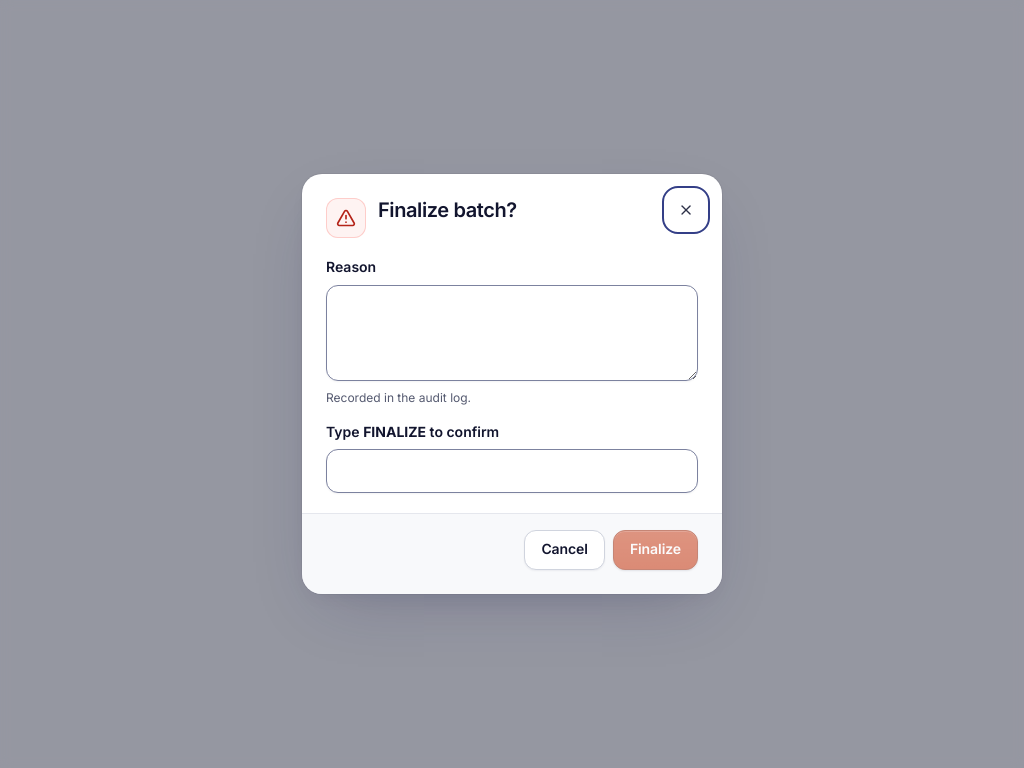
Test: ConfirmDialog › requires the typed phrase and a reason, then passes the reason
Later steps or results of the test are not shown.
Expected: the dialog "Finalize batch?" is shown, [302,174,722,594]
Expected: the button "Finalize" is disabled, [613,530,698,570]
Type "FINAL" into the field labelled "Type FINALIZE to confirm".
click(512, 471); type("FINAL")  # box [326,449,698,493]
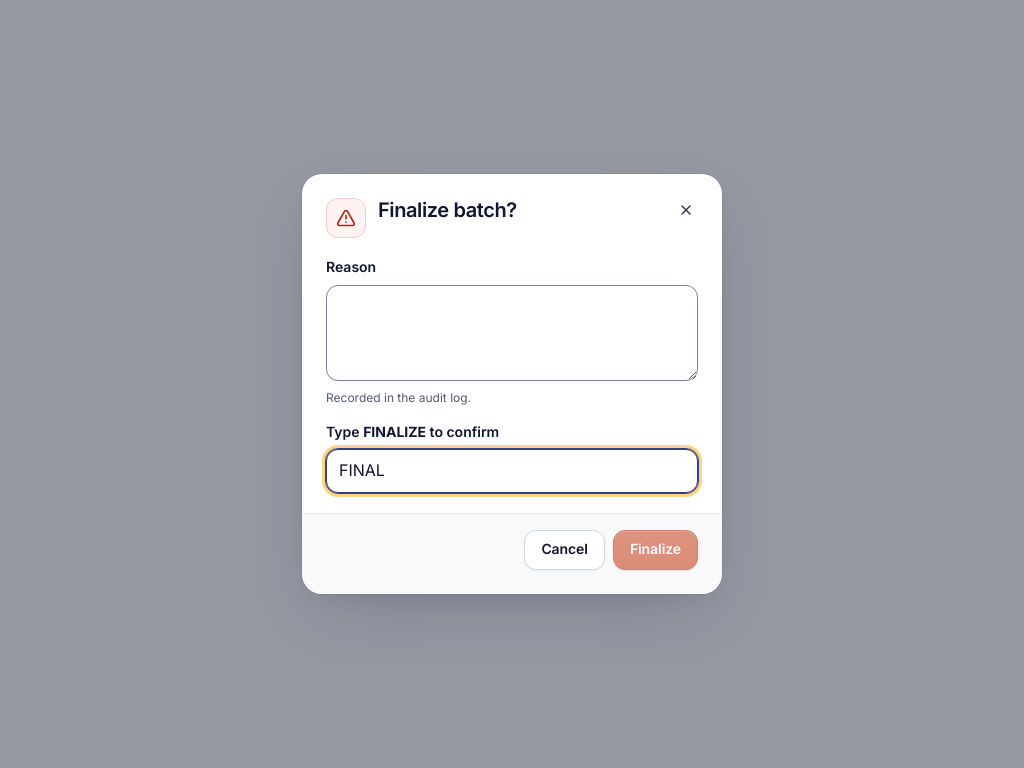
Expected: the button "Finalize" is disabled, [613,530,698,570]
Type "IZE" into the field labelled "Type FINALIZE to confirm".
click(512, 471); type("IZE")  # box [326,449,698,493]
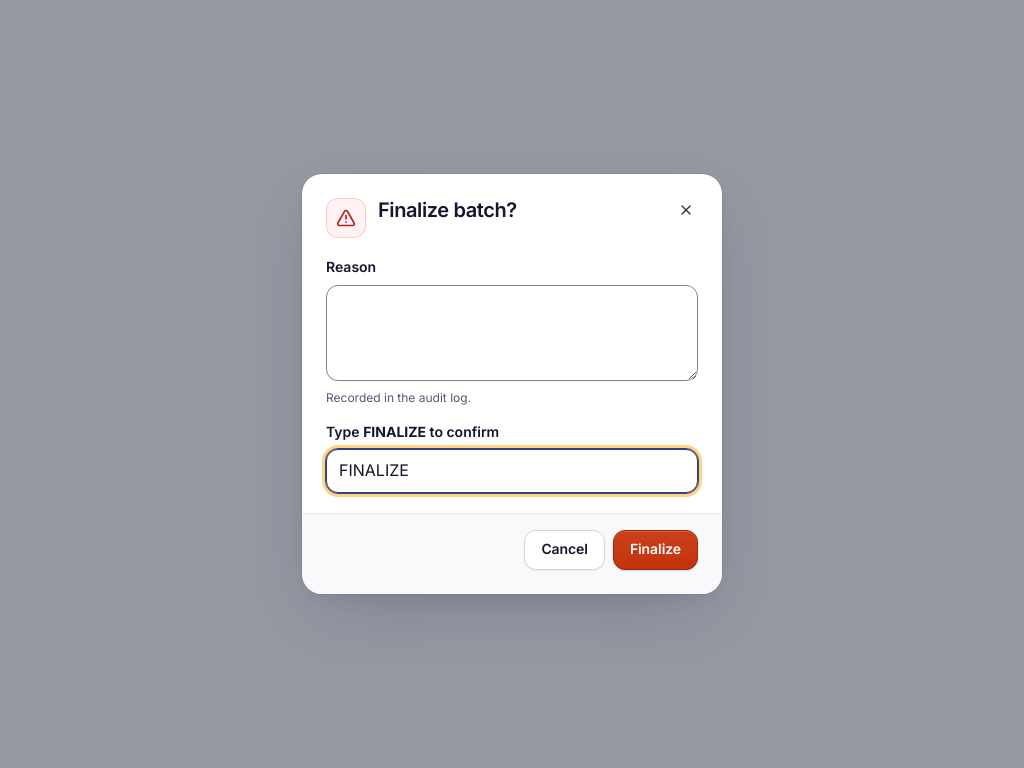
Expected: the button "Finalize" is enabled
Click the button "Finalize".
click(655, 550)  # box [613,530,698,570]
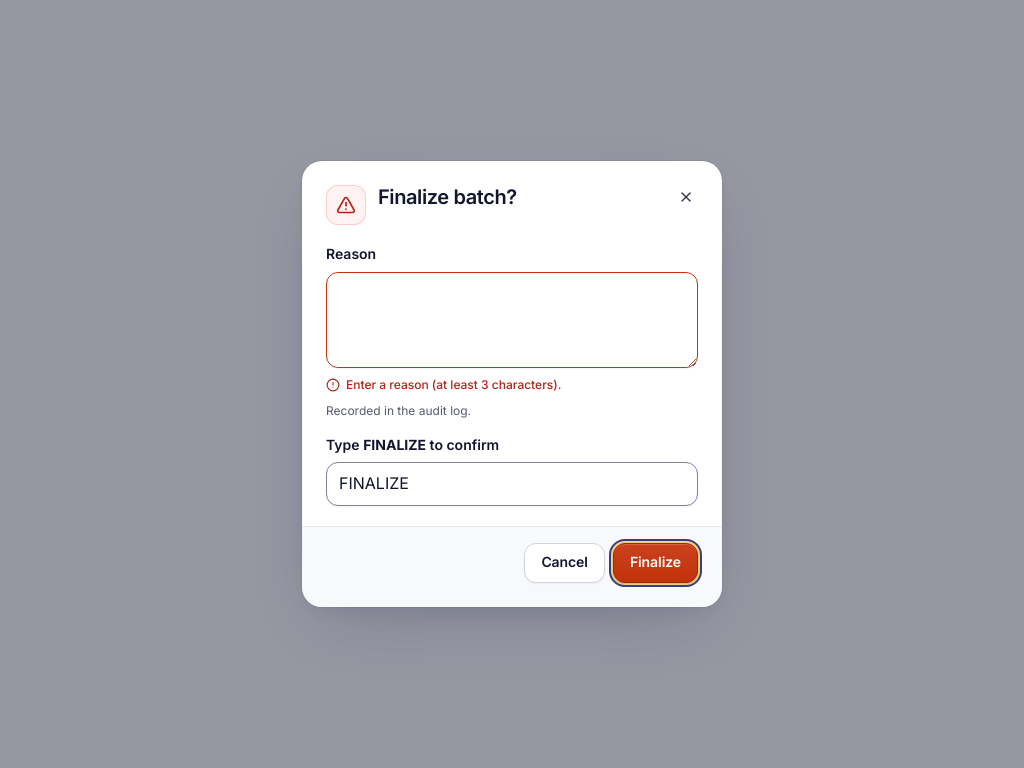
Expected: the text "Enter a reason (at least 3 characters)." is shown, [346,376,561,394]
